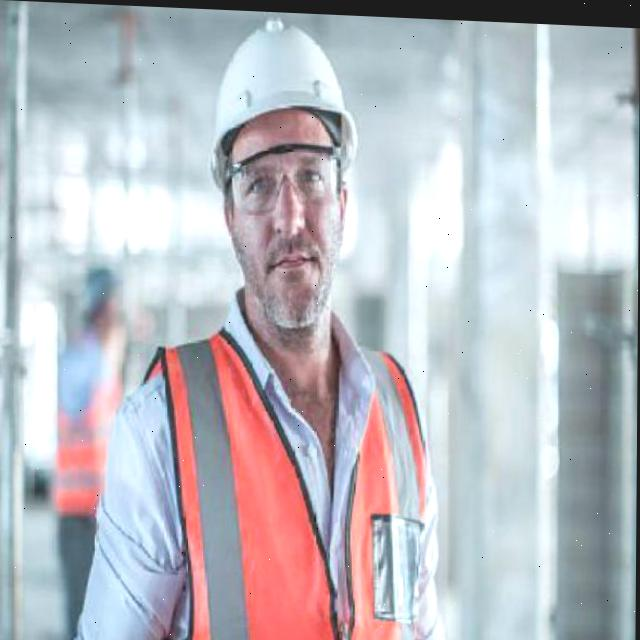Glass: (230, 151, 354, 206)
Helmet: (209, 12, 358, 192)
Safety-Vest: (143, 321, 428, 640)
